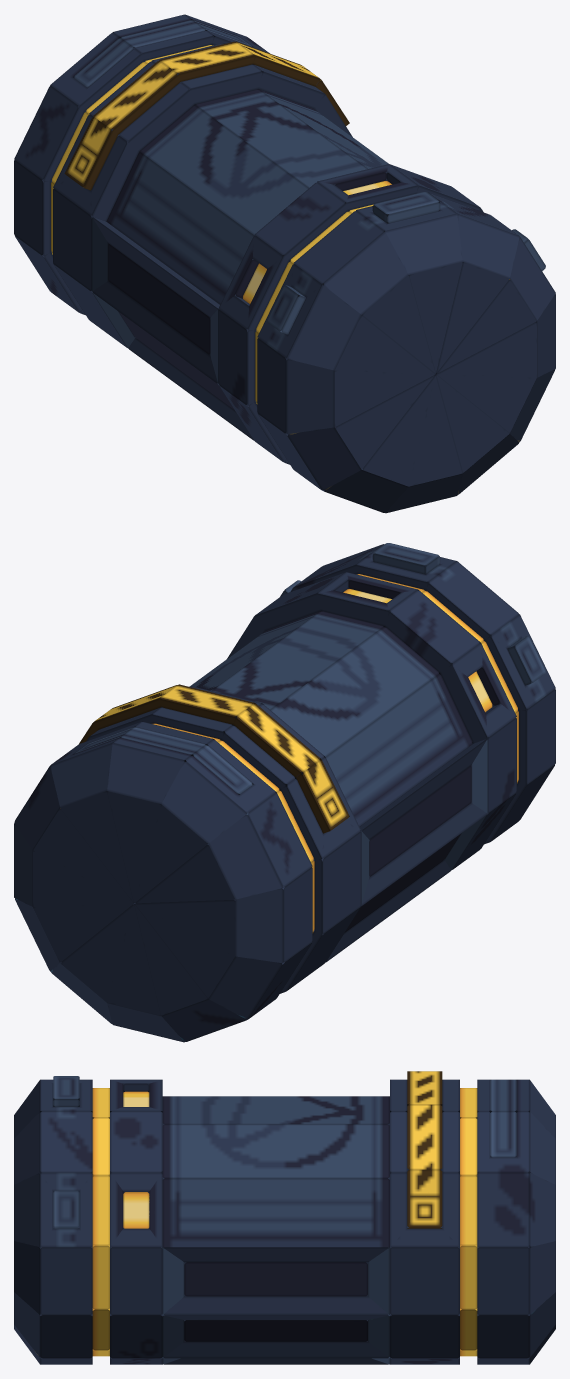
File: lootcapsule.fbx
The picture shows the model from 3 angles, top to bottom: view 1: azimuth 30°, elevation 25°; view 2: azimuth 150°, elevation 25°; view 3: azimuth 270°, elevation 25°; orthographic projection. The views are drawn at different scales.
Parts seen in each view (by area): view 1: cylinder, cylinder_1; view 2: cylinder, cylinder_1; view 3: cylinder, cylinder_1.
Part boxes in pixels (box(x1,y1,x2,y2)): cylinder: box(14, 14, 555, 513); cylinder_1: box(106, 89, 463, 355); cylinder: box(14, 543, 555, 1042); cylinder_1: box(152, 611, 472, 877); cylinder: box(14, 1071, 555, 1364); cylinder_1: box(162, 1096, 389, 1296).
Bounding box in the file's own units: 200 × 206 × 388.
Materials: 1 (1 with a texture image).
